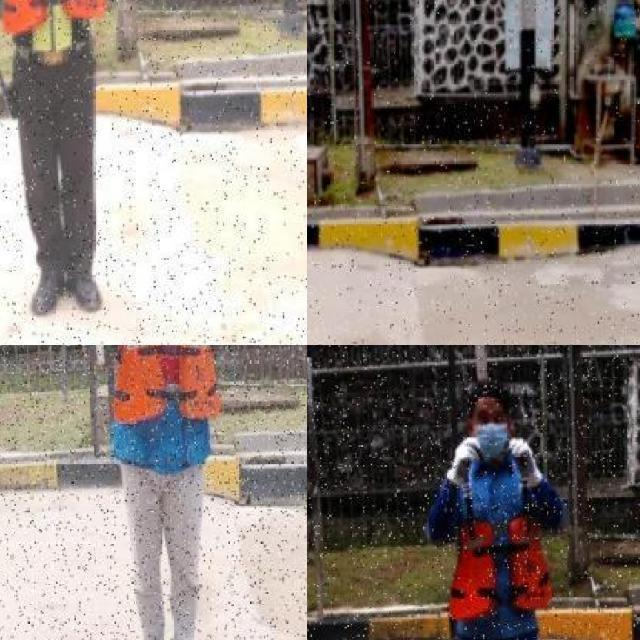apron: (444, 434, 484, 492), (506, 435, 544, 492)
